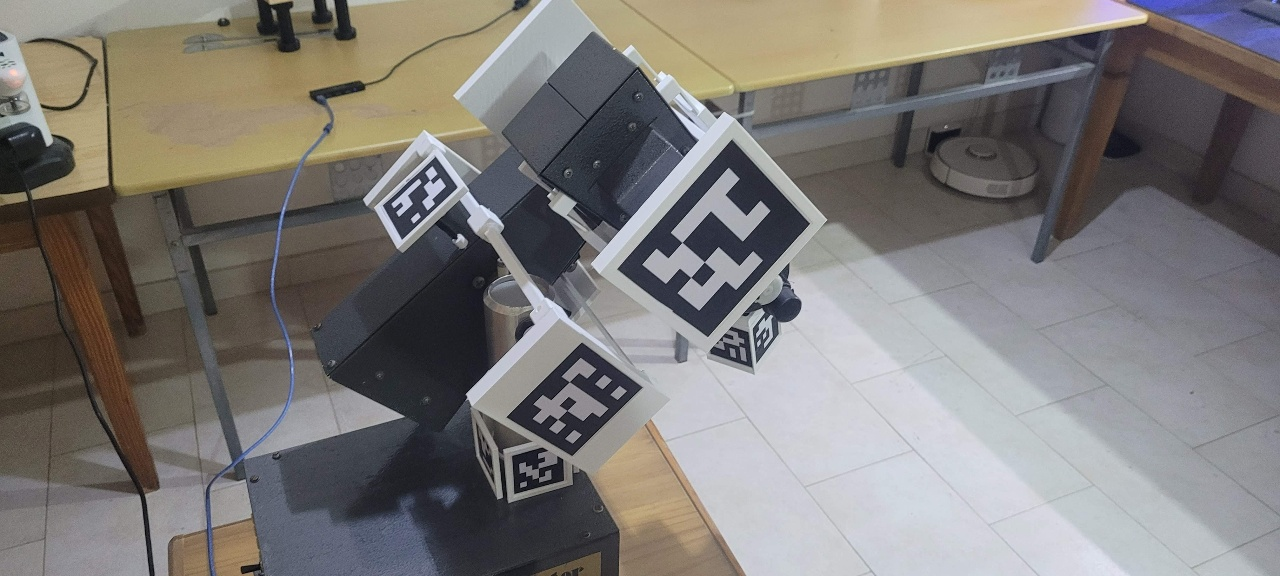Robot: (310, 1, 830, 506)
